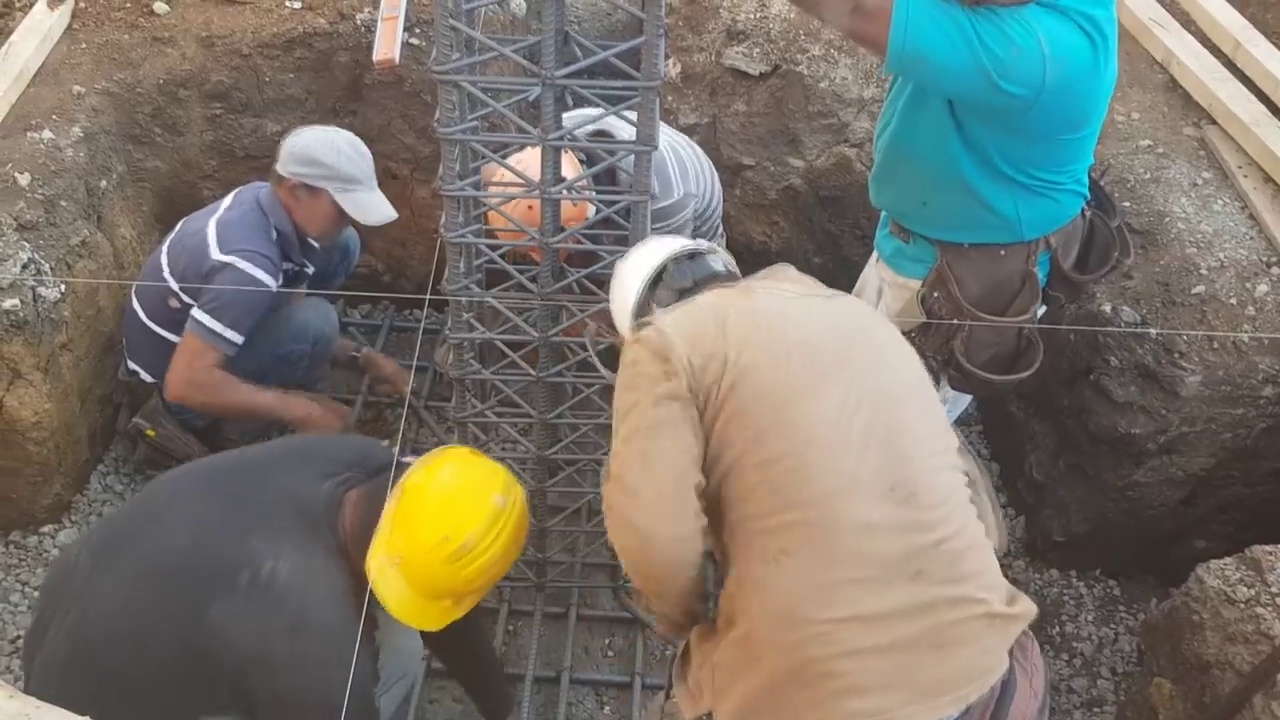helmet: (361, 452, 530, 635), (604, 239, 744, 346), (485, 135, 589, 255)
helmet-off: (269, 121, 392, 251)
helmet-on: (330, 432, 525, 643), (481, 116, 628, 249), (607, 239, 752, 354)
person: (594, 237, 1054, 720), (23, 430, 531, 720), (837, 2, 1137, 424), (112, 114, 403, 446), (480, 116, 729, 279)
